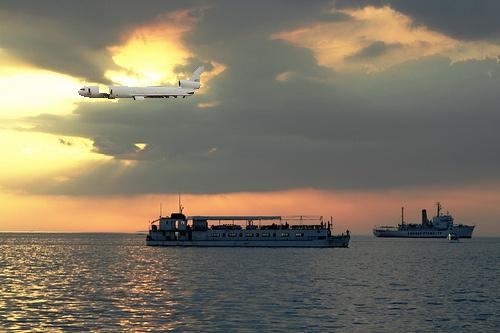tampered: (79, 67, 204, 100)
